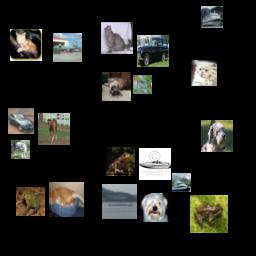airplane: (53, 33, 82, 62)
automobile: (137, 35, 169, 67), (8, 108, 34, 134)
cat: (49, 182, 84, 217), (10, 29, 42, 61), (101, 22, 133, 54), (102, 72, 131, 101), (191, 60, 217, 86), (133, 75, 152, 94)
dog: (201, 120, 233, 152), (140, 193, 169, 222), (11, 140, 30, 159)
frog: (190, 195, 228, 233), (106, 147, 135, 176), (16, 187, 45, 216)
ship: (102, 184, 137, 219), (139, 148, 171, 180), (201, 6, 223, 28), (172, 173, 191, 192)
